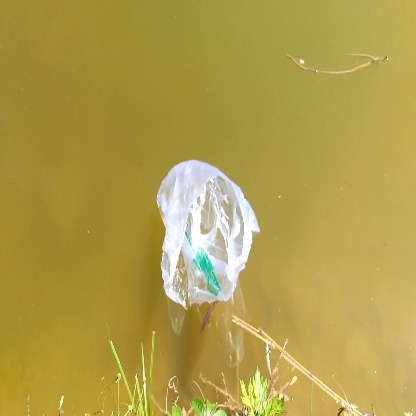plastic-bag: (152, 158, 263, 305)
